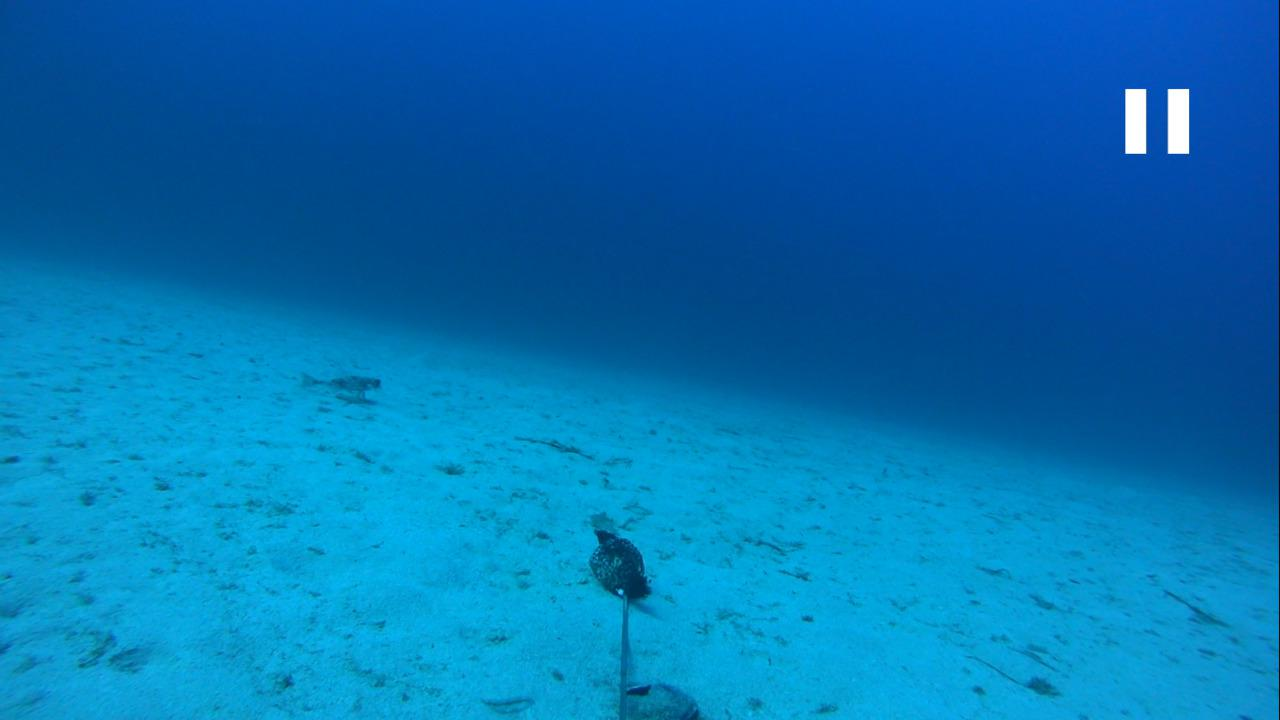dactylopterus: (291, 361, 382, 404)
